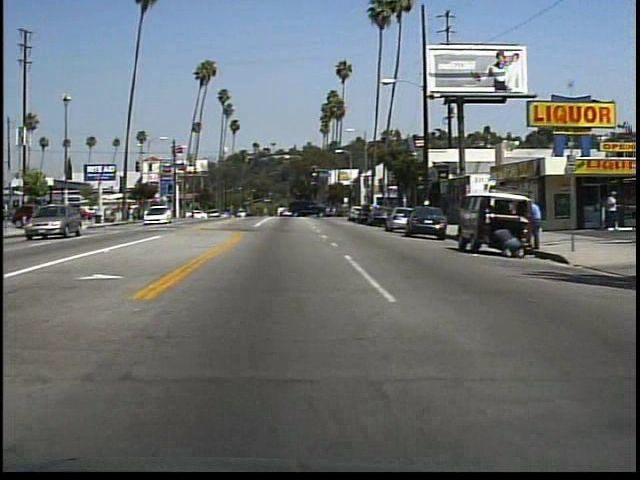person: (490, 224, 523, 262), (524, 197, 544, 250), (602, 187, 619, 236)
